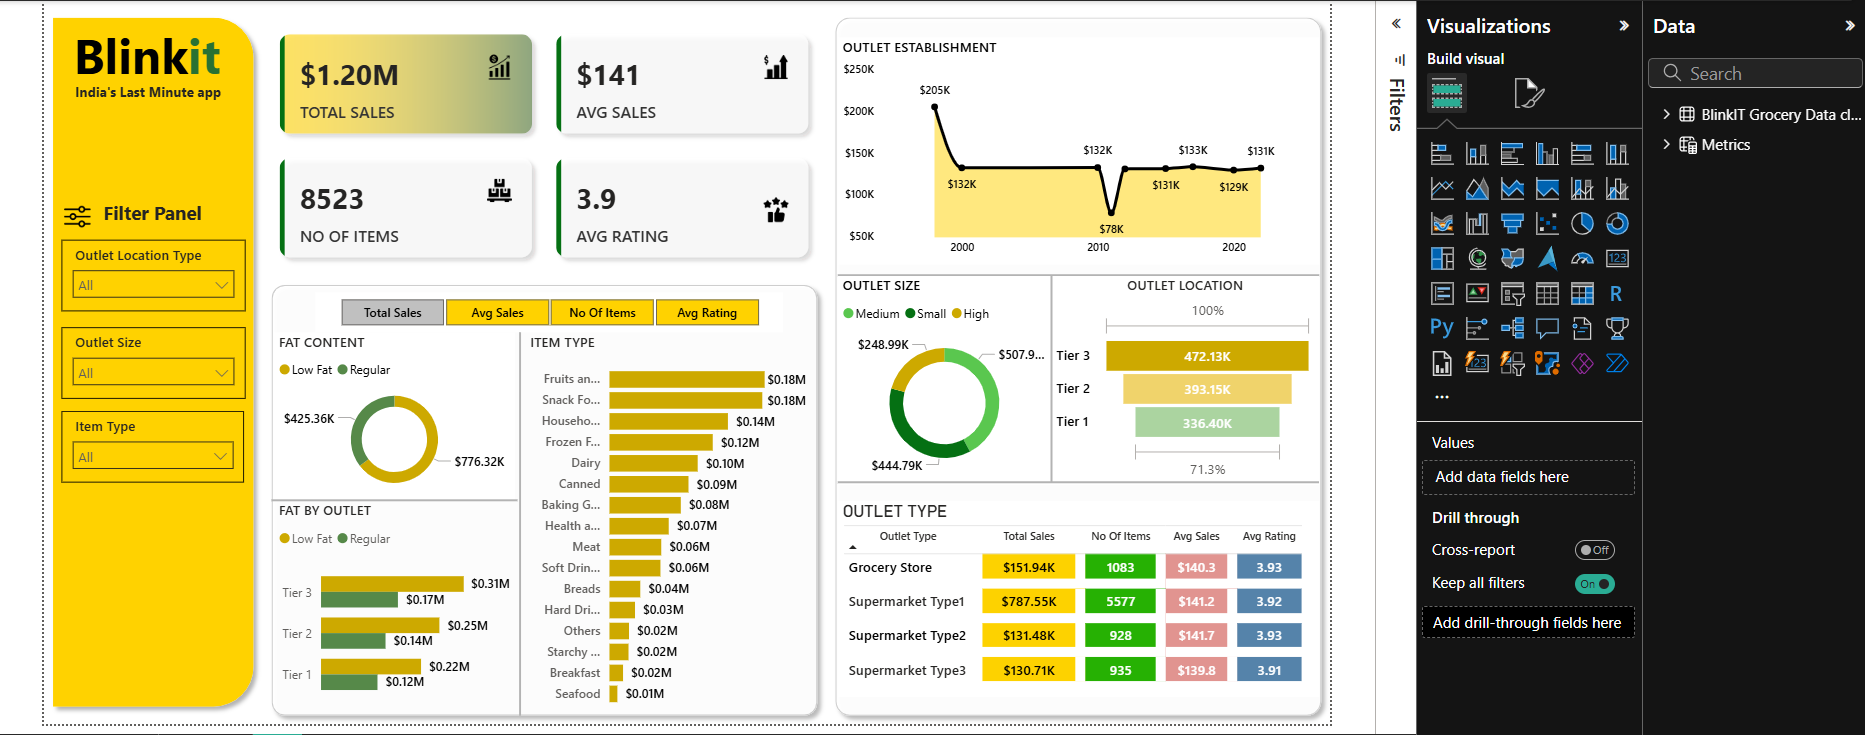

What the dashboard file says about the page in this screenshot:
{"tool":"powerbi","page":{"name":"Page 1","canvas":[1280,720],"ordinal":0},"visuals":[{"type":"shape","box":[0,7.5,217.7,704.1],"z":0},{"type":"textbox","box":[0,16.2,205.3,80.9],"z":1000},{"type":"textbox","box":[12.4,75.9,182.9,41.1],"z":2000},{"type":"cardVisual","fields":{"Data":["BlinkIT Grocery Data cleaned.Total Sales","BlinkIT Grocery Data cleaned.Avg Sales","BlinkIT Grocery Data cleaned.No Of Items","BlinkIT Grocery Data cleaned.Avg Rating"]},"box":[217.7,16.2,561,257.5],"z":3000},{"type":"shape","box":[217.7,273.7,561,446.6],"z":4000},{"type":"donutChart","title":"FAT CONTENT","fields":{"Y":["BlinkIT Grocery Data cleaned.Total Sales"],"Category":["BlinkIT Grocery Data cleaned.Item Fat Content"]},"box":[228.9,329.6,240.1,167.9],"z":5000},{"type":"slicer","fields":{"Values":["Metrics.Metrics"]},"box":[269.9,289.8,465.2,39.8],"z":6000},{"type":"clusteredBarChart","title":"FAT BY OUTLET","fields":{"Y":["BlinkIT Grocery Data cleaned.Total Sales"],"Category":["BlinkIT Grocery Data cleaned.Outlet Location Type"],"Series":["BlinkIT Grocery Data cleaned.Item Fat Content"]},"box":[228.9,497.6,240.1,211.5],"z":7000},{"type":"clusteredBarChart","title":"ITEM TYPE","fields":{"Y":["BlinkIT Grocery Data cleaned.Total Sales"],"Category":["BlinkIT Grocery Data cleaned.Item Type"]},"box":[478.9,329.6,284.9,381.9],"z":8000},{"type":"shape","box":[778.7,7.5,501.3,712.8],"z":9000},{"type":"lineChart","title":"OUTLET ESTABLISHMENT","fields":{"Y":["BlinkIT Grocery Data cleaned.Total Sales"],"Category":["BlinkIT Grocery Data cleaned.Outlet Establishment Year"]},"box":[789.9,36.1,478.9,226.4],"z":10000},{"type":"shape","box":[789.9,262.5,478.9,21.1],"z":11000},{"type":"shape","box":[226.4,488.9,245.1,16.2],"z":12000},{"type":"shape","box":[469,329.6,10,381.9],"z":13000},{"type":"donutChart","title":"OUTLET SIZE","fields":{"Y":["BlinkIT Grocery Data cleaned.Total Sales"],"Category":["BlinkIT Grocery Data cleaned.Outlet Size"]},"box":[789.9,273.7,212.7,207.7],"z":14000},{"type":"funnel","title":"OUTLET LOCATION","fields":{"Y":["Sum(BlinkIT Grocery Data cleaned.Sales)"],"Category":["BlinkIT Grocery Data cleaned.Outlet Location Type"]},"box":[1002.6,273.7,266.2,207.7],"z":15000},{"type":"shape","box":[996.4,273.7,12.4,205.3],"z":16000},{"type":"tableEx","title":"OUTLET TYPE","fields":{"Values":["BlinkIT Grocery Data cleaned.Outlet Type","BlinkIT Grocery Data cleaned.Total Sales","BlinkIT Grocery Data cleaned.No Of Items","BlinkIT Grocery Data cleaned.Avg Sales","BlinkIT Grocery Data cleaned.Avg Rating"]},"box":[789.9,497.6,478.9,195.3],"z":17000},{"type":"shape","box":[789.9,469,478.9,19.9],"z":18000},{"type":"slicer","fields":{"Values":["BlinkIT Grocery Data cleaned.Outlet Location Type"]},"box":[17.4,237.6,182.9,70.9],"z":19000},{"type":"slicer","fields":{"Values":["BlinkIT Grocery Data cleaned.Outlet Size"]},"box":[17.4,324.7,182.9,70.9],"z":20000},{"type":"slicer","fields":{"Values":["BlinkIT Grocery Data cleaned.Item Type"]},"box":[17.4,408,181.6,70.9],"z":21000},{"type":"textbox","box":[43.5,192.8,129.4,44.8],"z":22000},{"type":"image","box":[0,196.5,65.9,36.1],"z":23000}]}

Visuals, with their boxes on the page's 1280x720 design canvas (x1, y1, x2, y2). These are canvas units, not pixel positions in the 1865x735 screenshot, which may show the page scaled, cropped or inside an application window:
shape: bbox(0, 8, 218, 712)
textbox: bbox(0, 16, 205, 97)
textbox: bbox(12, 76, 195, 117)
cardVisual - BlinkIT Grocery Data cleaned.Total Sales x BlinkIT Grocery Data cleaned.Avg Sales: bbox(218, 16, 779, 274)
shape: bbox(218, 274, 779, 720)
"FAT CONTENT" donutChart: bbox(229, 330, 469, 498)
slicer - Metrics.Metrics: bbox(270, 290, 735, 330)
"FAT BY OUTLET" clusteredBarChart: bbox(229, 498, 469, 709)
"ITEM TYPE" clusteredBarChart: bbox(479, 330, 764, 712)
shape: bbox(779, 8, 1280, 720)
"OUTLET ESTABLISHMENT" lineChart: bbox(790, 36, 1269, 262)
shape: bbox(790, 262, 1269, 284)
shape: bbox(226, 489, 472, 505)
shape: bbox(469, 330, 479, 712)
"OUTLET SIZE" donutChart: bbox(790, 274, 1003, 481)
"OUTLET LOCATION" funnel: bbox(1003, 274, 1269, 481)
shape: bbox(996, 274, 1009, 479)
"OUTLET TYPE" tableEx: bbox(790, 498, 1269, 693)
shape: bbox(790, 469, 1269, 489)
slicer - BlinkIT Grocery Data cleaned.Outlet Location Type: bbox(17, 238, 200, 308)
slicer - BlinkIT Grocery Data cleaned.Outlet Size: bbox(17, 325, 200, 396)
slicer - BlinkIT Grocery Data cleaned.Item Type: bbox(17, 408, 199, 479)
textbox: bbox(44, 193, 173, 238)
image: bbox(0, 196, 66, 233)
